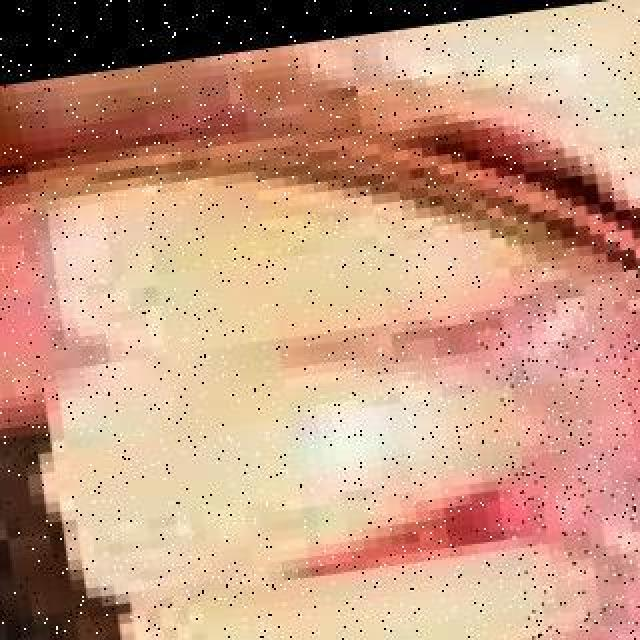spacing: (258, 502, 562, 596)
